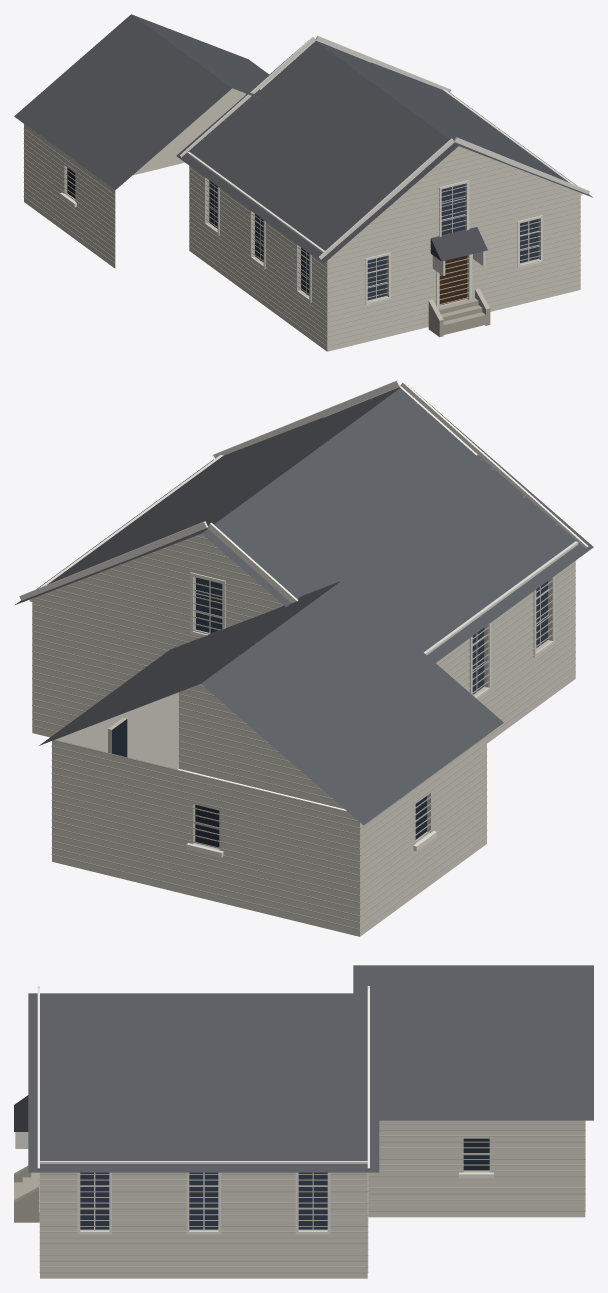
File: ch-henderson-methodist-1961.glb
3 renders of one model, top to bottom at view 1: azimuth 30°, elevation 25°; view 2: azimuth 150°, elevation 25°; view 3: azimuth 270°, elevation 25°, orthographic. The views are drawn at different scales.
Parts seen in each view (by area): view 1: ch_roof, ch_brick, ch_brick2, ch_trim, ch_stain, ch_conc, ch_roof2, ch_door; view 2: ch_roof, ch_brick, ch_brick2, ch_trim, ch_stain, ch_glass; view 3: ch_roof, ch_brick, ch_brick2, ch_trim, ch_stain, ch_conc, ch_glass, ch_roof2.
Boxes of the visible parts, x1,y1,x2,y2 form: ch_roof: [14, 14, 592, 263]; ch_brick: [24, 88, 580, 351]; ch_brick2: [23, 52, 580, 346]; ch_trim: [60, 35, 589, 307]; ch_stain: [209, 180, 538, 300]; ch_conc: [428, 288, 490, 337]; ch_roof2: [430, 227, 487, 261]; ch_door: [439, 255, 466, 305]; ch_roof: [15, 385, 593, 825]; ch_brick: [32, 533, 575, 936]; ch_brick2: [32, 399, 575, 930]; ch_trim: [19, 380, 588, 857]; ch_stain: [196, 577, 547, 694]; ch_glass: [112, 719, 426, 847]; ch_roof: [28, 965, 593, 1172]; ch_brick: [40, 1120, 585, 1278]; ch_brick2: [39, 1121, 585, 1273]; ch_trim: [15, 986, 493, 1234]; ch_stain: [80, 1172, 327, 1229]; ch_conc: [14, 1166, 39, 1222]; ch_glass: [463, 1138, 489, 1170]; ch_roof2: [14, 1095, 28, 1131].
Size of the model in its own units: 16.21 by 8.39 by 20.
